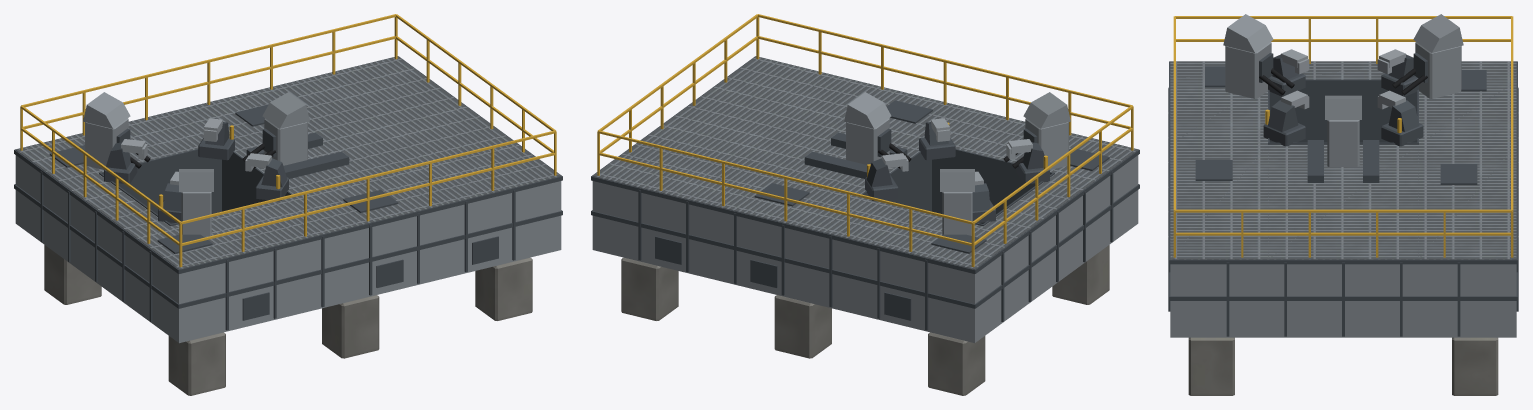
File: mlp_saturn.glb
The picture shows the model from 3 angles, left to right: view 1: azimuth 30°, elevation 25°; view 2: azimuth 150°, elevation 25°; view 3: azimuth 270°, elevation 25°; orthographic projection. The views are drawn at different scales.
Parts seen in each view (by area): view 1: mlp_saturn, pedestals, tsm, holddown; view 2: mlp_saturn, pedestals, tsm, holddown; view 3: mlp_saturn, tsm, holddown, pedestals.
Part boxes in pixels (bbox=[...]): mlp_saturn: bbox=[14, 14, 562, 343]; pedestals: bbox=[44, 245, 532, 395]; tsm: bbox=[83, 92, 309, 236]; holddown: bbox=[104, 118, 288, 222]; mlp_saturn: bbox=[591, 14, 1139, 343]; pedestals: bbox=[621, 245, 1109, 395]; tsm: bbox=[844, 92, 1070, 235]; holddown: bbox=[865, 118, 1049, 222]; mlp_saturn: bbox=[1168, 16, 1518, 337]; tsm: bbox=[1223, 14, 1463, 166]; holddown: bbox=[1263, 49, 1423, 146]; pedestals: bbox=[1188, 337, 1498, 395].
Bounding box in the file's own units: 10.22 × 5.07 × 7.59.
Materials: 7 (2 with a texture image).
